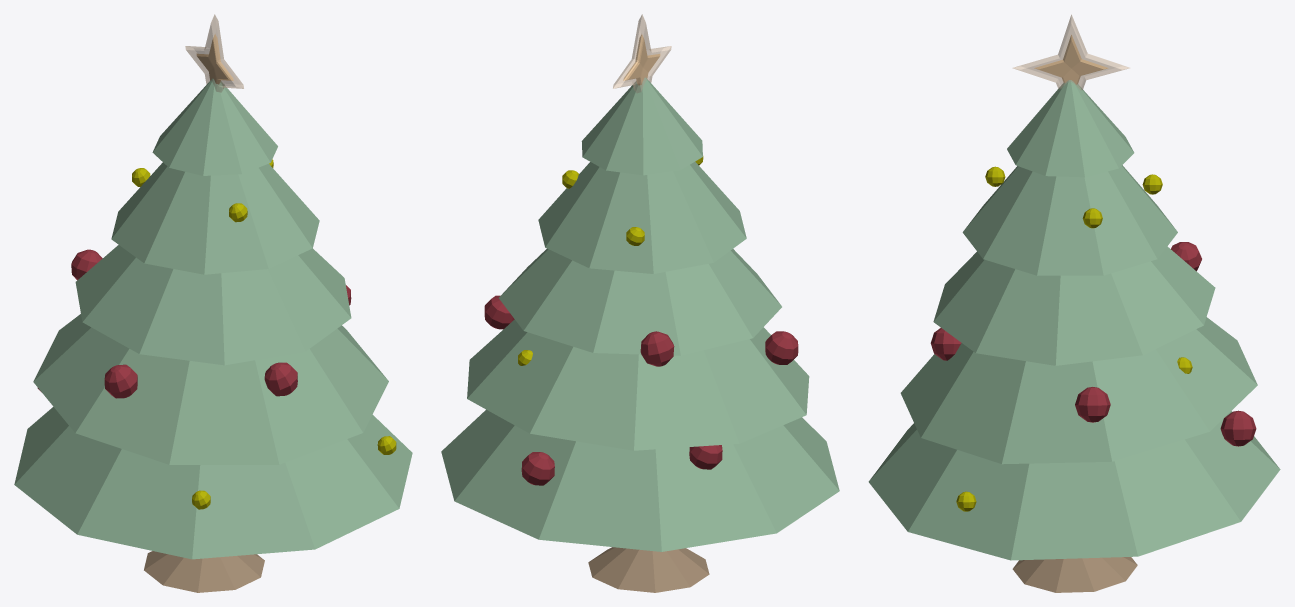
The model's file is Arbol Navideño.fbx.
3 views of the same model, side by side, from view 1: azimuth 30°, elevation 25°; view 2: azimuth 150°, elevation 25°; view 3: azimuth 270°, elevation 25° (orthographic).
Parts seen in each view (by area): view 1: A_Hojas_1, A_Hojas_2, A_Hojas_3, A_Hojas_4, A_Hojas_5, Base_madera_Ar, Ext_Estrella, Bol_Ro_1, Bol_Ro_2, Int_Estrella, Bol_Ro_5; view 2: A_Hojas_1, A_Hojas_2, A_Hojas_3, A_Hojas_4, A_Hojas_5, Base_madera_Ar, Ext_Estrella, Bol_Ro_5, Bol_Ro_1, Bol_Ro_4, Int_Estrella, Bol_Ro_6 (+1 smaller); view 3: A_Hojas_1, A_Hojas_2, A_Hojas_3, A_Hojas_4, A_Hojas_5, Base_madera_Ar, Ext_Estrella, Int_Estrella, Bol_Ro_3, Bol_Ro_4, Bol_Ro_2.
Boxes of the visible parts, box(x1,y1,x2,y2) form: A_Hojas_1: box(14, 407, 412, 559); A_Hojas_2: box(33, 314, 388, 464); A_Hojas_3: box(75, 245, 351, 365); A_Hojas_4: box(111, 162, 319, 274); A_Hojas_5: box(152, 78, 277, 175); Base_madera_Ar: box(144, 551, 264, 592); Ext_Estrella: box(185, 14, 243, 92); Bol_Ro_1: box(104, 364, 137, 398); Bol_Ro_2: box(264, 362, 297, 396); Int_Estrella: box(196, 34, 233, 84); Bol_Ro_5: box(71, 249, 102, 280); A_Hojas_1: box(441, 409, 839, 551); A_Hojas_2: box(467, 319, 809, 450); A_Hojas_3: box(499, 248, 781, 355); A_Hojas_4: box(538, 161, 746, 273); A_Hojas_5: box(581, 77, 702, 175); Base_madera_Ar: box(588, 547, 709, 592); Ext_Estrella: box(613, 14, 671, 92); Bol_Ro_5: box(640, 331, 674, 366); Bol_Ro_1: box(765, 331, 798, 364); Bol_Ro_4: box(521, 452, 554, 485); Int_Estrella: box(623, 34, 660, 85); Bol_Ro_6: box(689, 445, 722, 469); A_Hojas_1: box(868, 411, 1280, 560); A_Hojas_2: box(900, 317, 1257, 464); A_Hojas_3: box(933, 246, 1215, 365); A_Hojas_4: box(962, 165, 1177, 275); A_Hojas_5: box(1007, 80, 1134, 177); Base_madera_Ar: box(1012, 557, 1137, 592); Ext_Estrella: box(1012, 14, 1130, 90); Int_Estrella: box(1034, 35, 1108, 84); Bol_Ro_3: box(1075, 387, 1110, 422); Bol_Ro_4: box(1220, 410, 1256, 446); Bol_Ro_2: box(930, 328, 961, 360).
Size of the model in its own units: 3.64 by 5.72 by 3.82.
